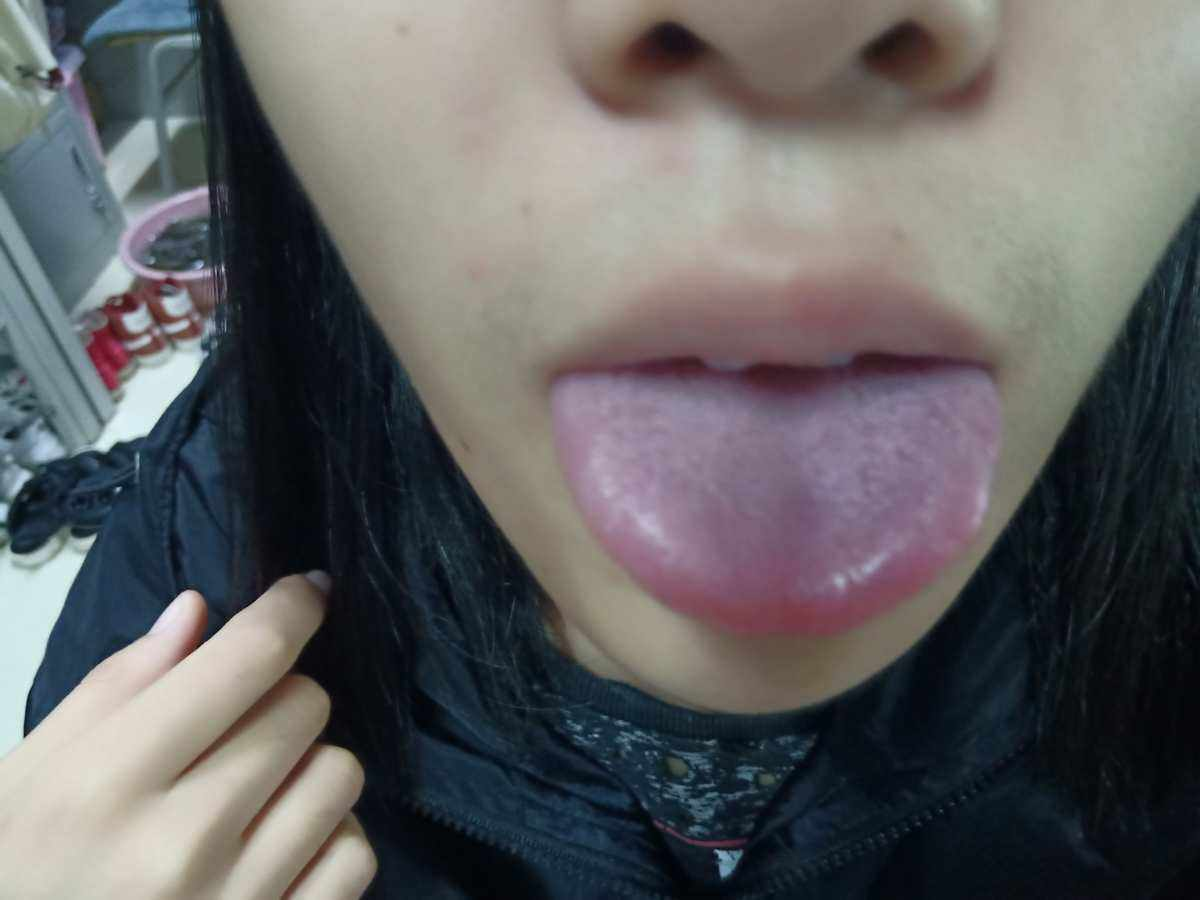baitaishe: (552, 368, 999, 637)
zishe: (551, 368, 998, 637)
